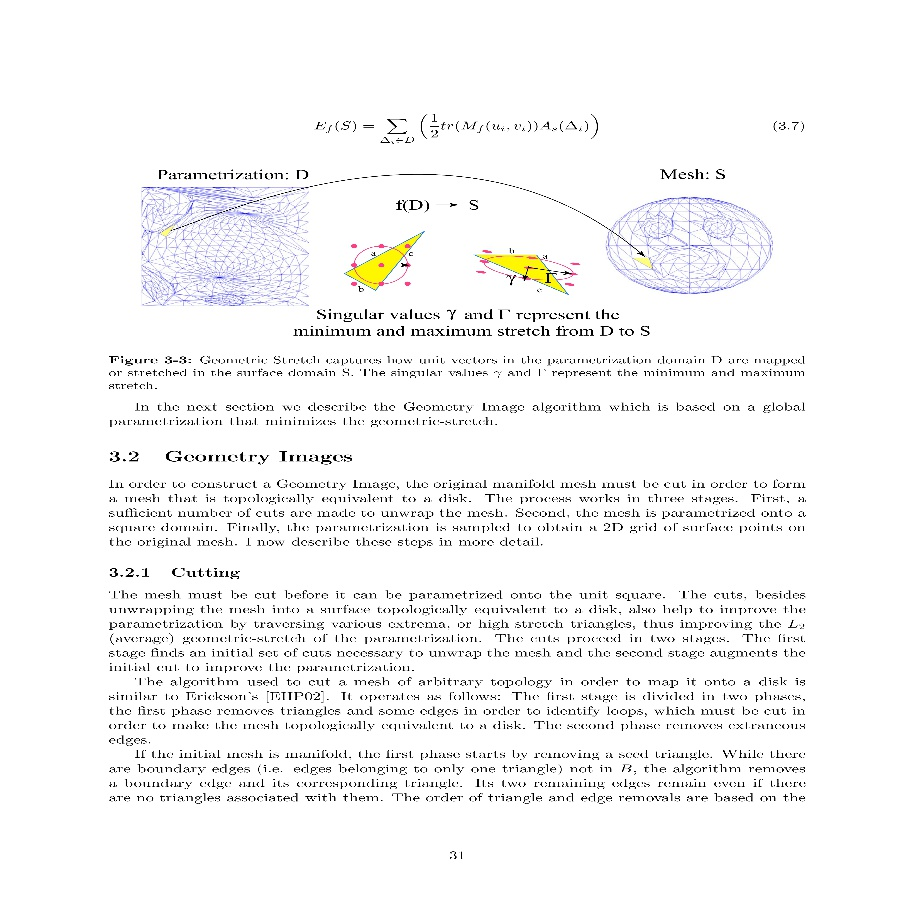eq: (311, 111, 603, 147)
